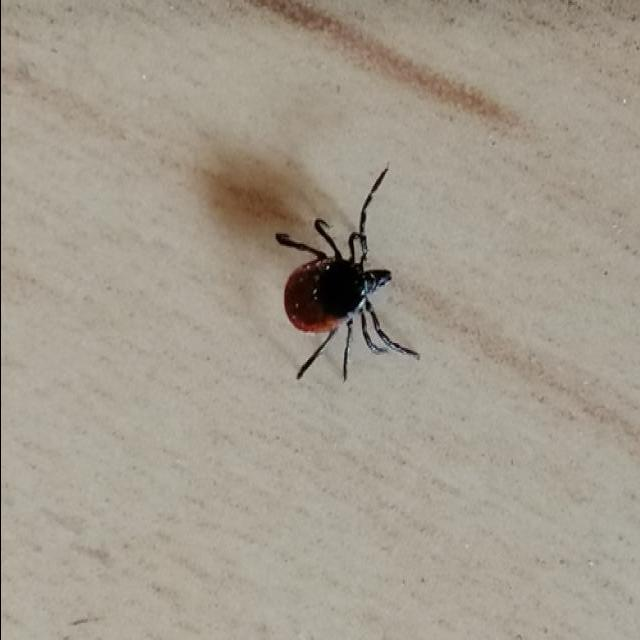Ixodes Ricinus-F: (278, 166, 421, 379)
